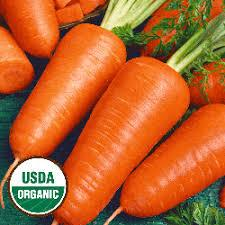Organic: (4, 0, 225, 225)
